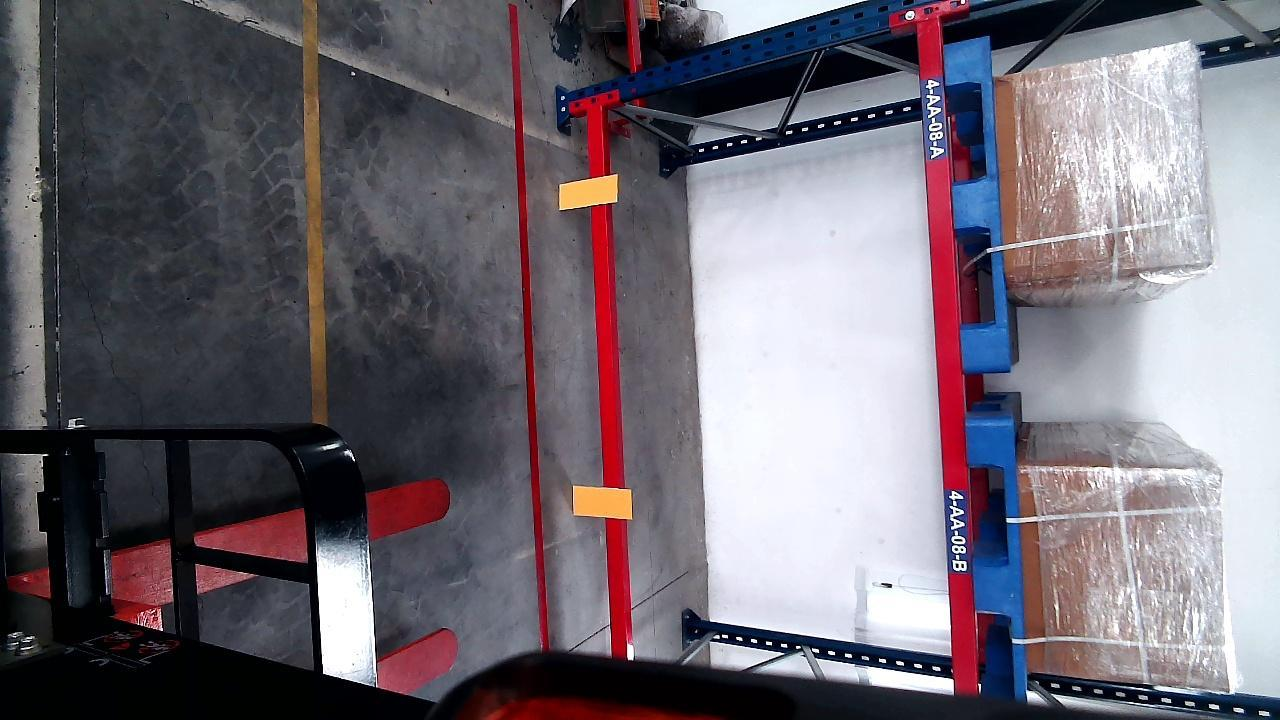red_line: (507, 7, 554, 653)
yellow_line: (303, 0, 328, 426)
